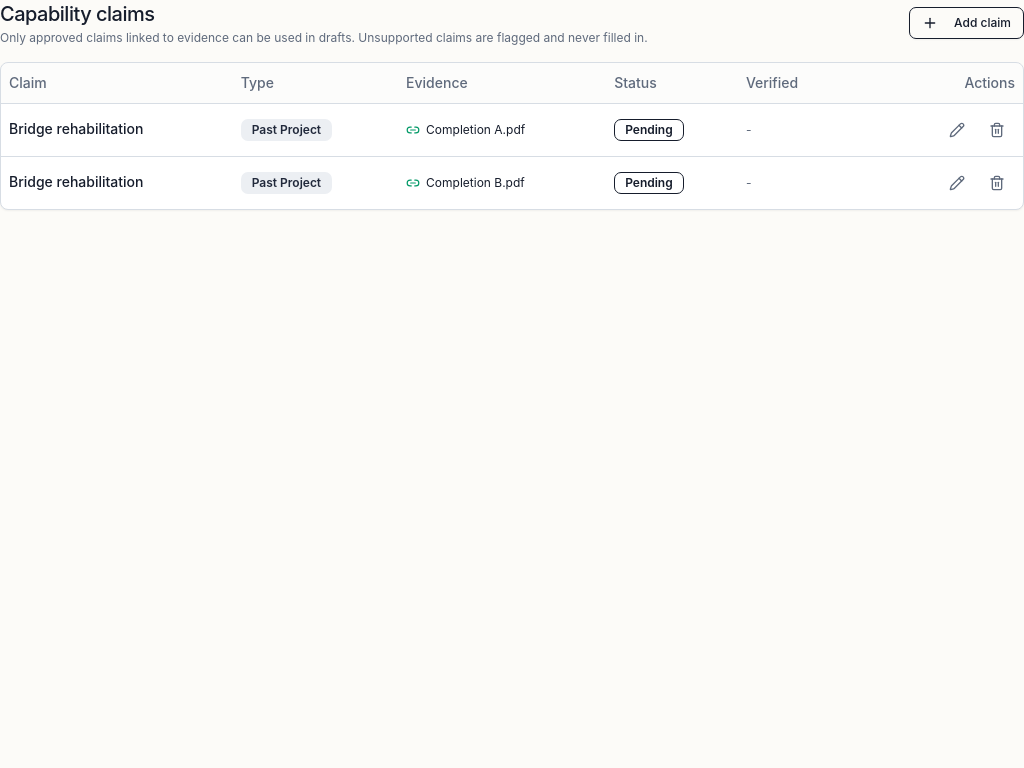
ClientCapability interaction safeguards › identifies the chosen duplicate-label claim by evidence and stable ID
Click the button named "Delete Bridge rehabilitation — Past Project · Completion B.p": point(997, 182) [979, 164, 1015, 200]
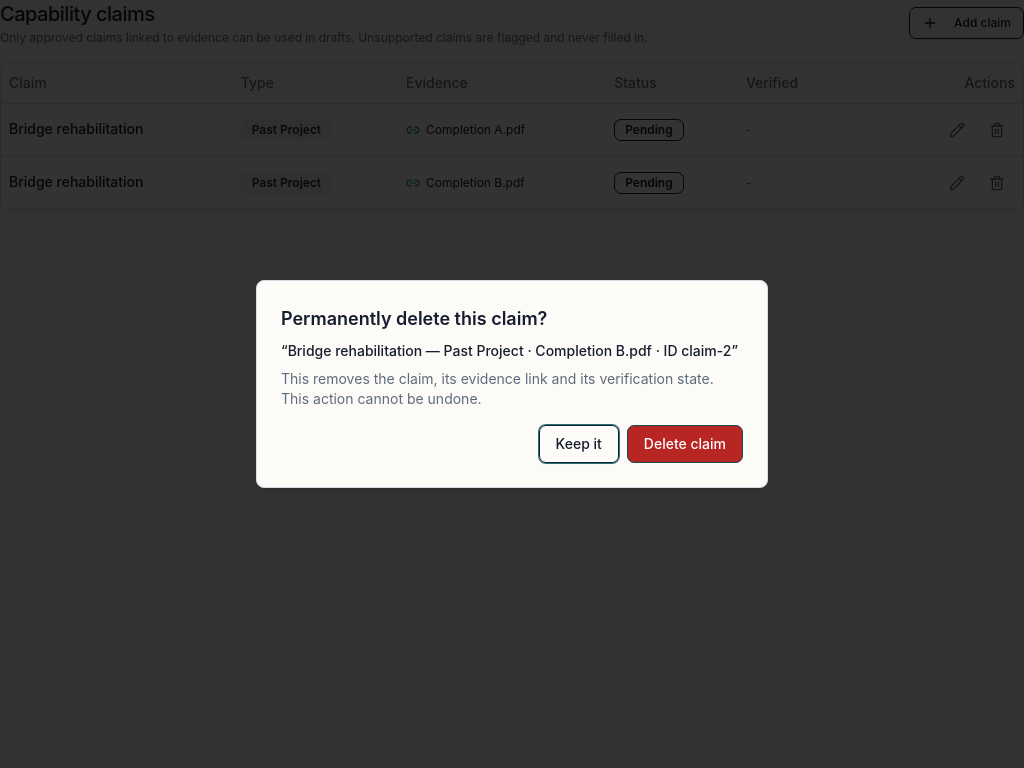
Expected: the dialog does not show "ID claim-1", [256, 280, 768, 488]
Expected: the dialog shows "Completion B.pdf", [288, 342, 731, 359]
Expected: the dialog shows "ID claim-2", [288, 342, 731, 359]
